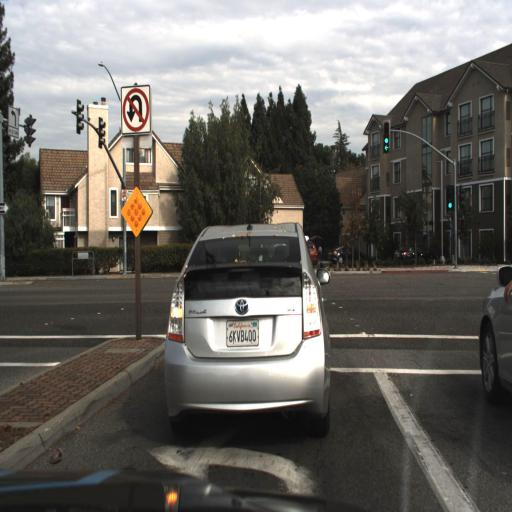car: (156, 187, 340, 458), (162, 219, 334, 434), (477, 233, 511, 409), (329, 242, 371, 269), (390, 241, 426, 268)
trafficLight: (381, 118, 393, 158), (444, 182, 455, 216)
